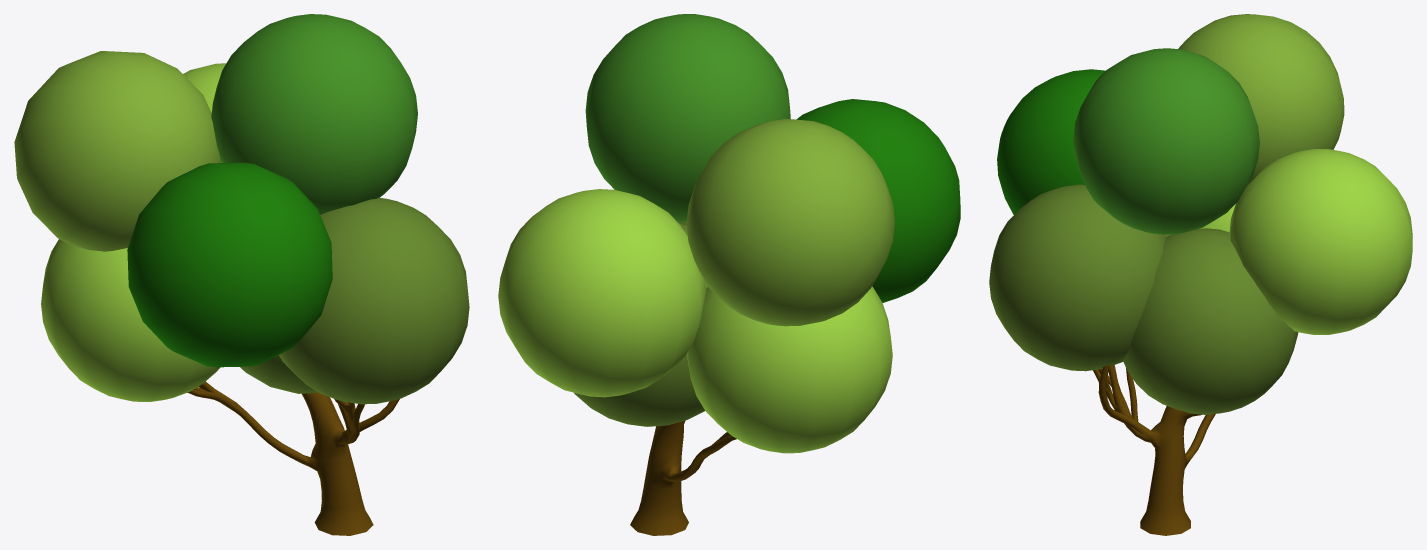
Rendered from l_drzewo_matka_zdrowe_o.fbx.
3 renders of one model, left to right at view 1: azimuth 30°, elevation 25°; view 2: azimuth 150°, elevation 25°; view 3: azimuth 270°, elevation 25°, orthographic. The views are drawn at different scales.
Visible parts, largest first — view 1: tree_up, tree_trunk; view 2: tree_up, tree_trunk; view 3: tree_up, tree_trunk.
Boxes of the visible parts, box(x1,y1,x2,y2) form: tree_up: box(14, 14, 469, 404); tree_trunk: box(187, 381, 399, 535); tree_up: box(498, 14, 960, 453); tree_trunk: box(630, 420, 736, 535); tree_up: box(989, 14, 1412, 414); tree_trunk: box(1093, 365, 1215, 535).
Bounding box in the file's own units: 1010 × 1414 × 1193.
